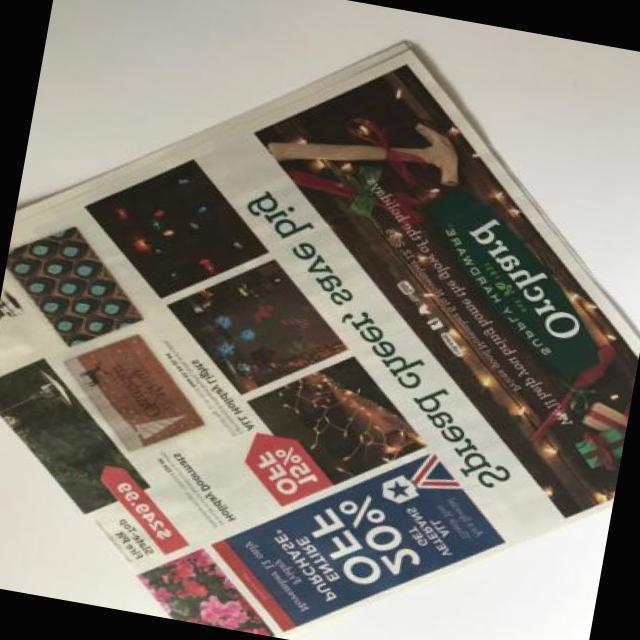paper: (0, 201, 640, 508), (182, 0, 406, 636), (323, 138, 564, 640), (15, 136, 242, 584)
